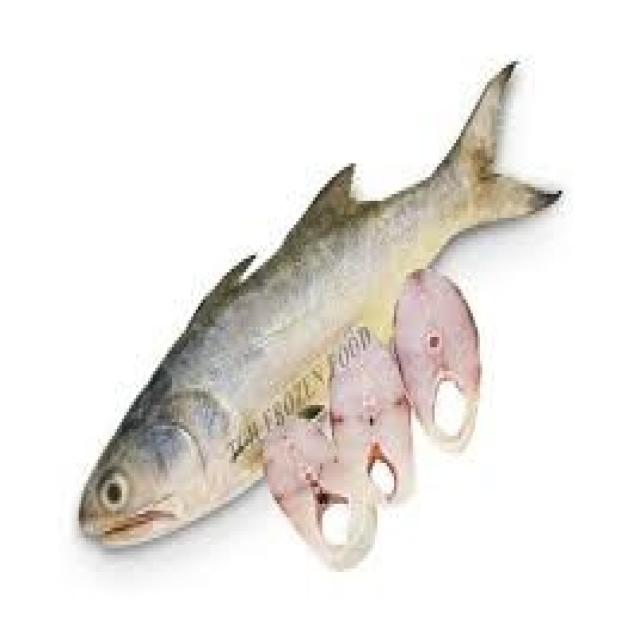Fourfinger-Threadfin: (48, 44, 590, 562)
